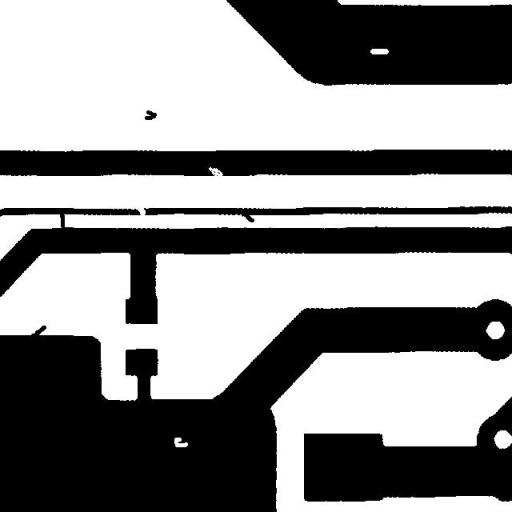copper: (137, 102, 164, 128)
mousebite: (201, 159, 230, 187)
open: (130, 198, 152, 224)
pin-hole: (362, 40, 396, 62), (166, 430, 196, 454)
short: (52, 203, 72, 235)
spur: (232, 200, 262, 230), (23, 318, 54, 343)
